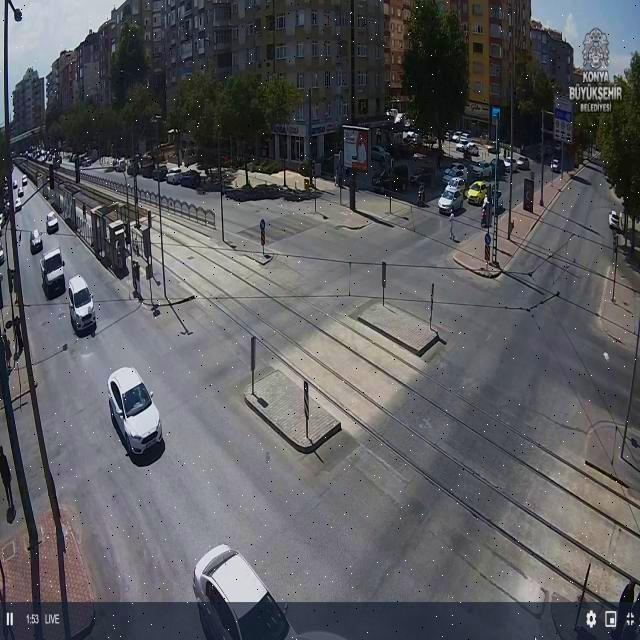Car: (194, 543, 305, 640), (107, 366, 162, 455), (66, 275, 96, 333), (40, 247, 66, 296), (438, 181, 466, 213), (153, 142, 180, 164), (466, 180, 488, 206), (442, 164, 467, 185), (206, 167, 233, 185), (179, 170, 203, 188), (470, 160, 493, 178), (489, 158, 511, 175), (487, 189, 503, 212), (30, 228, 43, 253), (371, 145, 390, 162), (46, 211, 59, 234), (166, 170, 185, 185), (608, 210, 621, 230), (140, 162, 156, 178), (503, 157, 520, 172), (371, 174, 387, 189), (402, 131, 420, 144), (435, 147, 444, 173), (152, 167, 168, 181), (514, 157, 530, 170), (126, 162, 140, 176), (421, 134, 437, 146), (25, 146, 38, 160), (465, 144, 479, 156), (218, 153, 232, 165), (487, 143, 502, 154), (386, 108, 399, 120), (589, 150, 602, 162), (455, 141, 469, 152), (80, 156, 94, 167), (117, 159, 128, 173), (444, 130, 457, 141), (550, 158, 560, 172), (394, 112, 405, 124), (459, 133, 471, 144), (62, 151, 74, 162), (473, 160, 489, 168), (403, 118, 415, 128), (14, 196, 22, 211), (463, 147, 471, 161), (0, 245, 5, 266), (2, 184, 10, 197), (142, 153, 153, 162), (0, 212, 6, 228), (14, 152, 26, 160), (4, 198, 12, 210), (70, 154, 80, 163), (46, 153, 56, 162), (53, 155, 62, 164), (452, 134, 462, 142), (37, 154, 47, 162), (17, 186, 24, 197), (50, 149, 59, 157), (481, 132, 488, 142), (22, 175, 28, 186), (36, 172, 42, 182), (10, 151, 18, 158), (592, 144, 600, 151), (13, 179, 18, 189), (112, 159, 118, 167), (4, 176, 8, 186), (386, 110, 390, 116)
Cycle: (480, 198, 490, 226), (417, 183, 425, 205)
